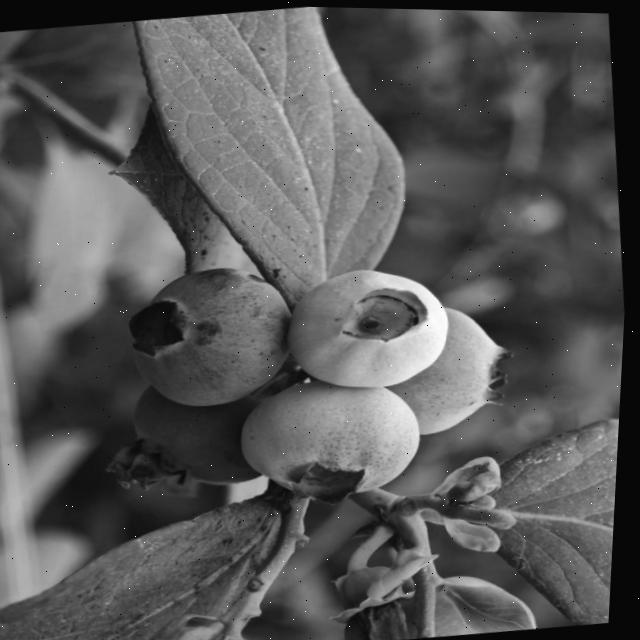RipeBlueBerry: (118, 256, 305, 416), (120, 385, 271, 497)
Semi-RipeBlueBerry: (383, 299, 519, 438)
UnripeBlueBerry: (233, 375, 435, 509), (281, 257, 462, 398)
